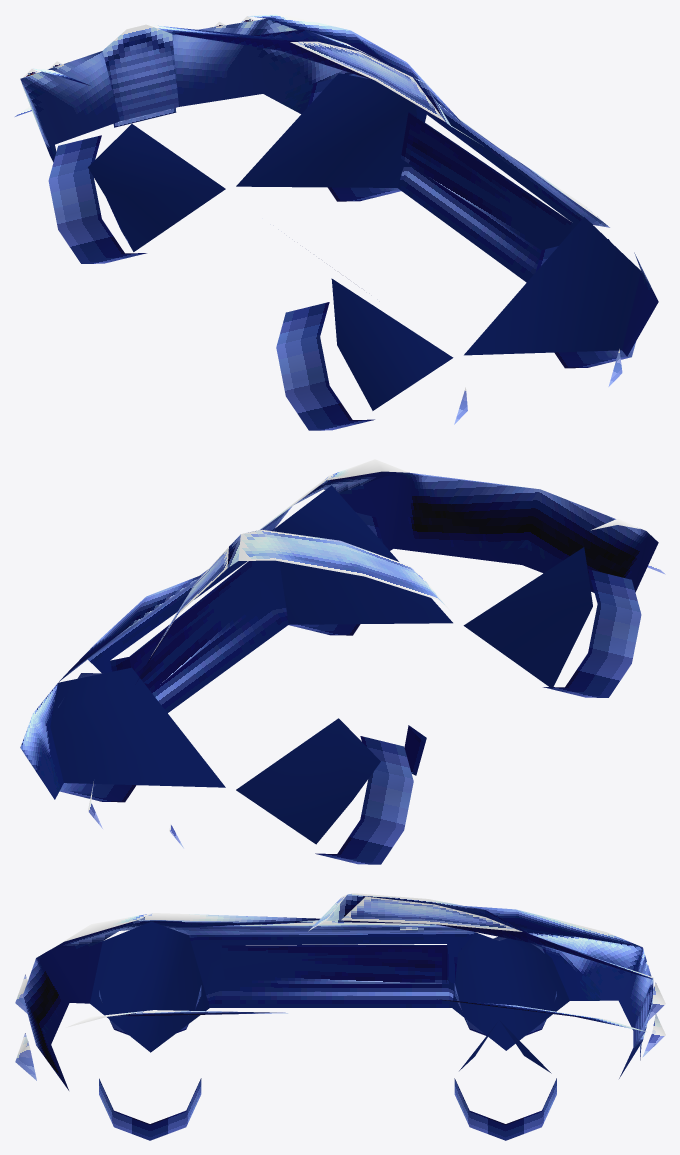
The model's file is ps2_save-icons_burnoutdominator.glb.
3 views of the same model, one above another, from view 1: azimuth 30°, elevation 25°; view 2: azimuth 150°, elevation 25°; view 3: azimuth 270°, elevation 25° (orthographic). The views are drawn at different scales.
Visible parts, largest first — view 1: view.ico; view 2: view.ico; view 3: view.ico.
Boxes of the visible parts, x1=… form: view.ico: x1=15, y1=14, x2=658, y2=430; view.ico: x1=20, y1=459, x2=665, y2=864; view.ico: x1=15, y1=893, x2=665, y2=1140.
Bounding box in the file's own units: 2.26 × 1.41 × 5.
Materials: 1 (1 with a texture image).
